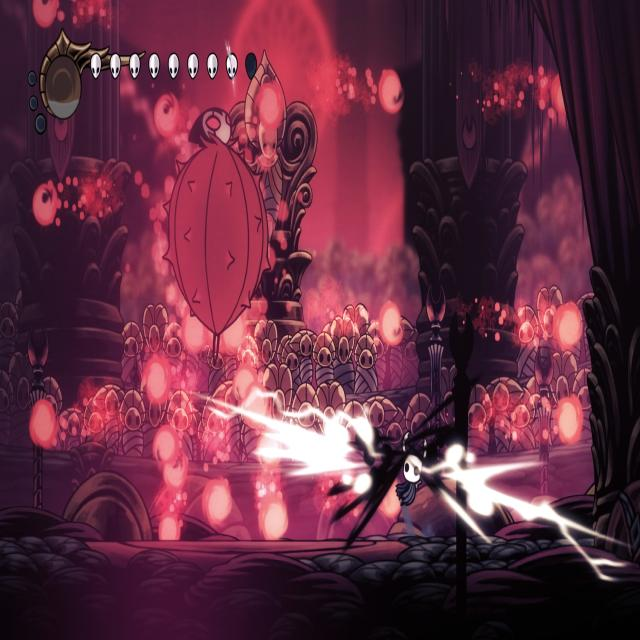Player: (392, 426, 426, 540)
Pufferfish: (158, 102, 276, 362)
Tiny Fireballs: (154, 424, 190, 490), (30, 398, 58, 449), (144, 356, 172, 406), (258, 84, 286, 133), (555, 305, 583, 353), (203, 478, 231, 525), (556, 397, 582, 444), (154, 93, 181, 138), (261, 499, 289, 541), (379, 69, 404, 114), (181, 314, 206, 356), (221, 314, 246, 356), (380, 472, 402, 519), (34, 184, 58, 227), (162, 453, 189, 491), (380, 304, 403, 346), (155, 425, 179, 464), (32, 0, 58, 28), (160, 514, 183, 542)
